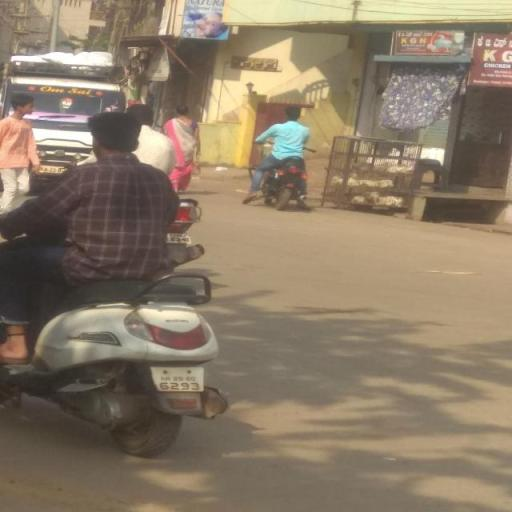bike: (4, 106, 234, 436)
numberplate: (151, 366, 204, 392)
withouthelmet: (90, 112, 138, 150)
